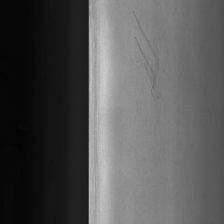water_spot: (130, 4, 170, 104)
